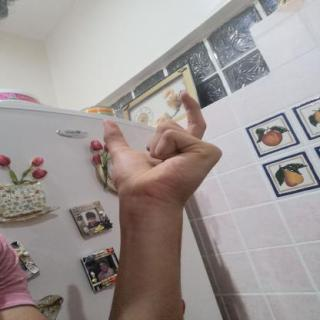NOON: (90, 85, 236, 220)
